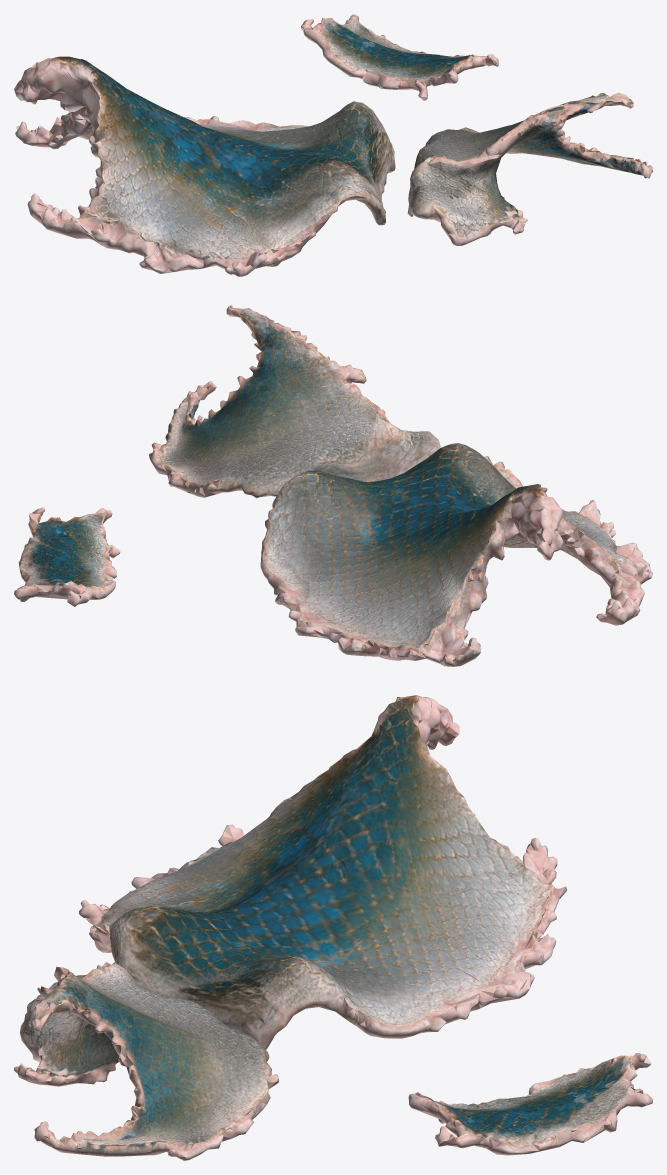
File: jurel-despues.glb
3 renders of one model, top to bottom at view 1: azimuth 30°, elevation 25°; view 2: azimuth 150°, elevation 25°; view 3: azimuth 270°, elevation 25°, orthographic. The views are drawn at different scales.
Visible parts, largest first — view 1: Trozo grande, Trozo mediano, Trozo pequeño; view 2: Trozo grande, Trozo mediano, Trozo pequeño; view 3: Trozo grande, Trozo mediano, Trozo pequeño.
Part boxes in pixels (bbox=[...]): Trozo grande: bbox=[14, 56, 395, 276]; Trozo mediano: bbox=[407, 92, 652, 246]; Trozo pequeño: bbox=[301, 14, 498, 100]; Trozo grande: bbox=[260, 443, 652, 666]; Trozo mediano: bbox=[149, 305, 440, 498]; Trozo pequeño: bbox=[14, 507, 120, 606]; Trozo grande: bbox=[79, 695, 567, 1049]; Trozo mediano: bbox=[14, 962, 279, 1160]; Trozo pequeño: bbox=[408, 1053, 652, 1155].
Size of the model in its own units: 1.9 by 0.5207 by 1.58.
1 material, 1 textured.
